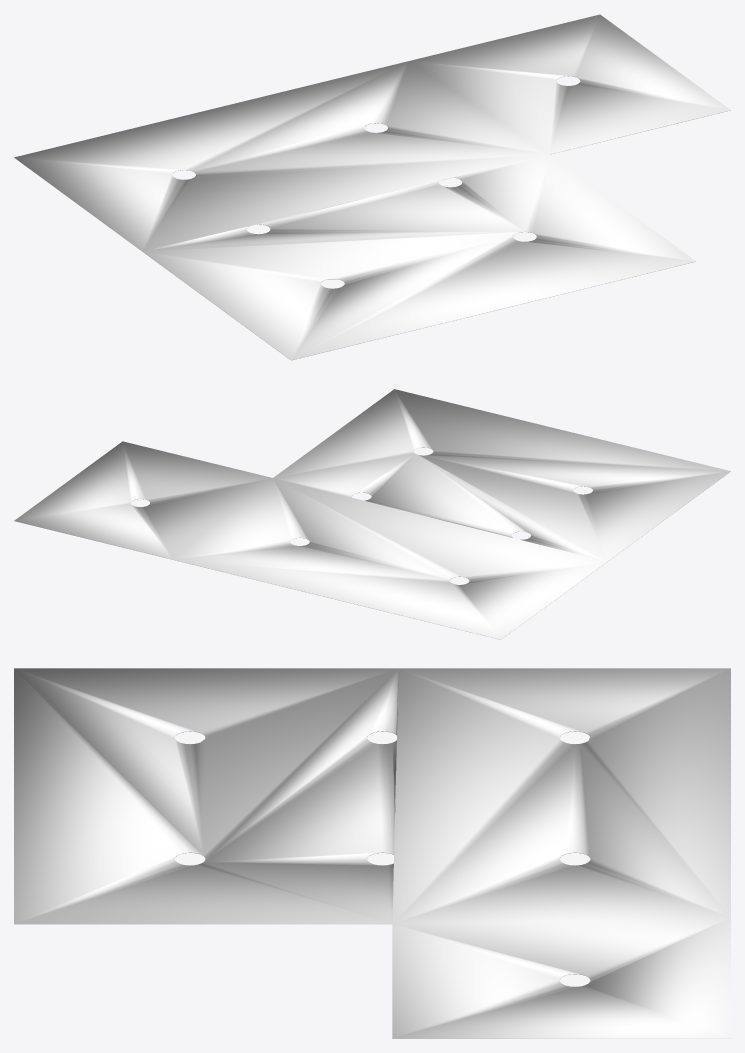
Rendered from ceilings.obj.
The picture shows the model from 3 angles, top to bottom: view 1: azimuth 30°, elevation 25°; view 2: azimuth 150°, elevation 25°; view 3: azimuth 270°, elevation 25°; orthographic projection. The views are drawn at different scales.
Parts seen in each view (by area): view 1: Ceiling_bedroom.006; view 2: Ceiling_bedroom.006; view 3: Ceiling_bedroom.006.
Boxes of the visible parts, x1,y1,x2,y2 form: Ceiling_bedroom.006: [14, 14, 730, 360]; Ceiling_bedroom.006: [14, 389, 730, 639]; Ceiling_bedroom.006: [14, 668, 730, 1038].
Size of the model in its own units: 8.6 by 0.00486 by 7.04.
1 material, 1 textured.
